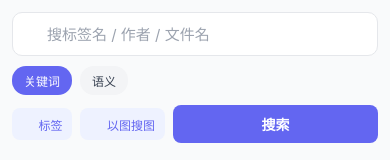
SearchScreen（M3） › 切到语义模式：提示用法，且隐藏标签/以图入口
expect the text "关键词" is shown: met, box [24,72,60,89]
Click the element with test id "mode-semantic": (104, 80) [80,66,128,95]
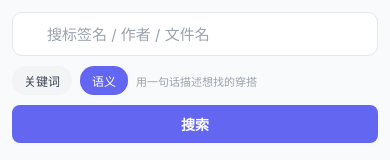
expect the text "用一句话描述想找的穿搭" is shown: met, box [136,72,257,88]
expect the text "以图搜图" is gone: met
